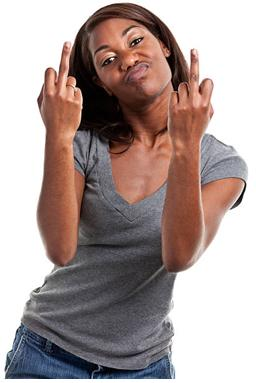insulting_gesture: (35, 35, 85, 148), (166, 43, 216, 154)
